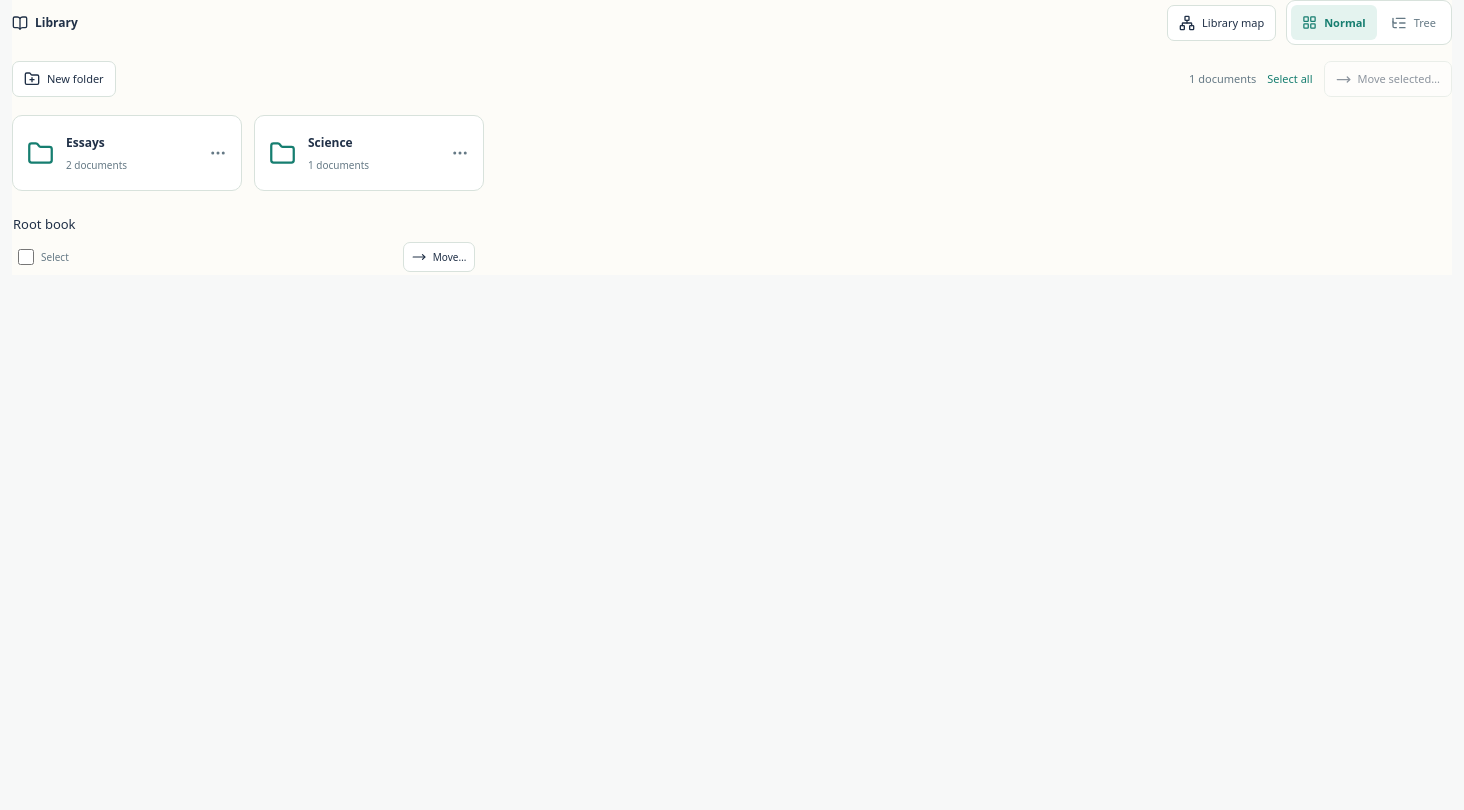
it: library folder navigation and views › selects only documents currently visible and expands before selecting deep documents
Click the button "Tree" at (1413, 22), box [1380,5,1447,40]
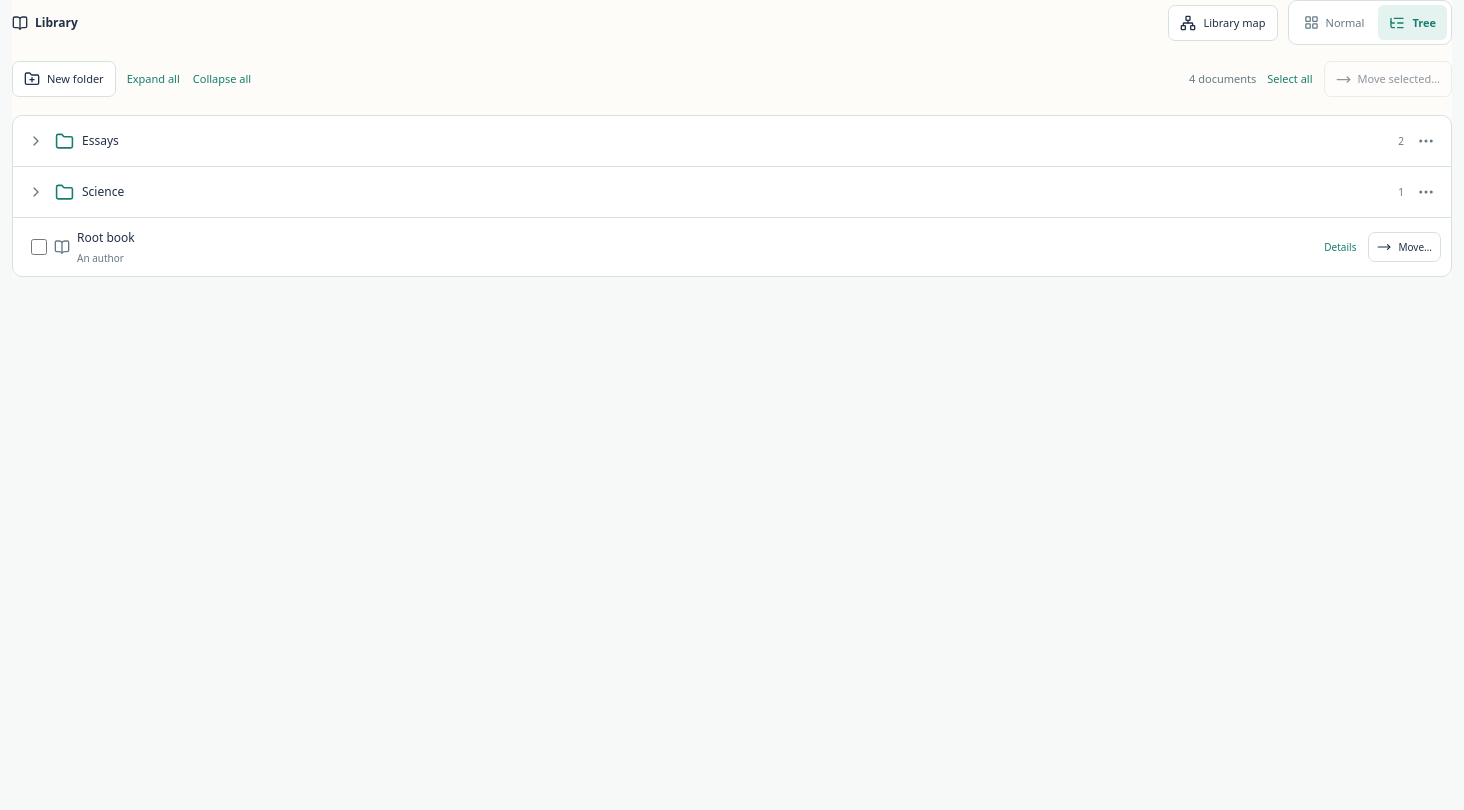
Click the button "Select all" at (1290, 79), box [1265,63,1315,95]
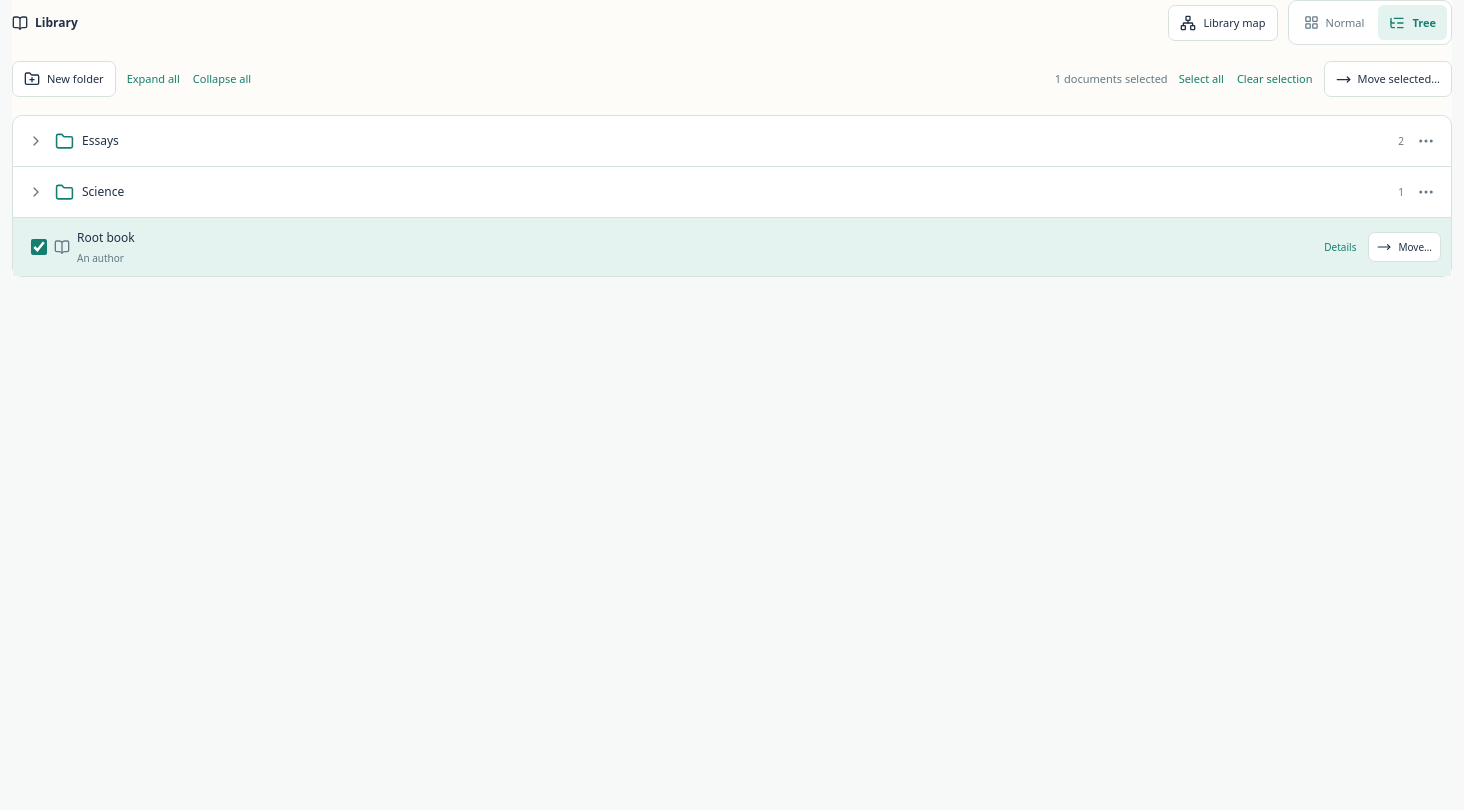
Expected: the text "1 documents selected" is shown, [1055,70,1168,88]
Click the button "Expand all" at (153, 79), box [125,63,182,95]
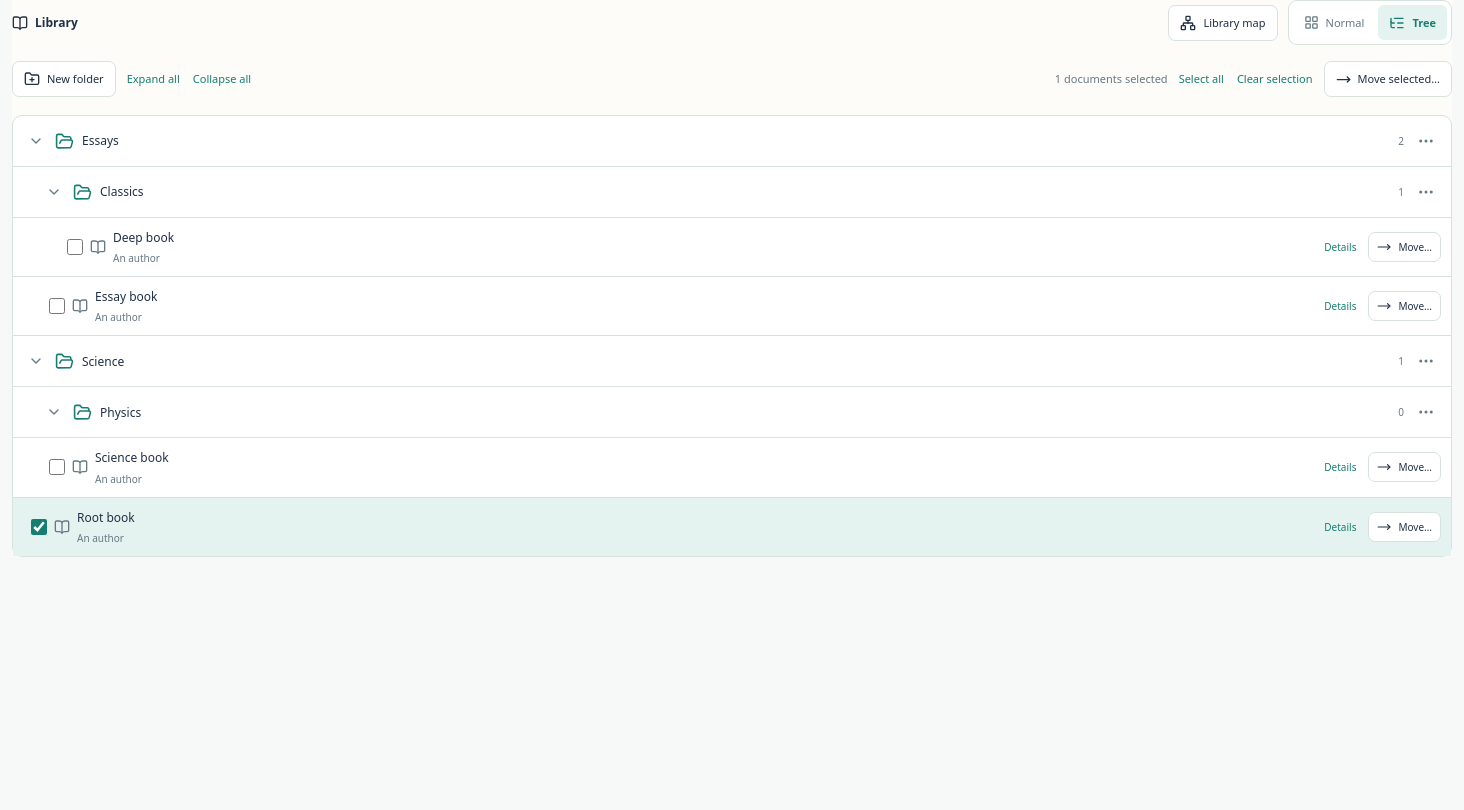
Click the button "Select all" at (1201, 79), box [1177,63,1226,95]
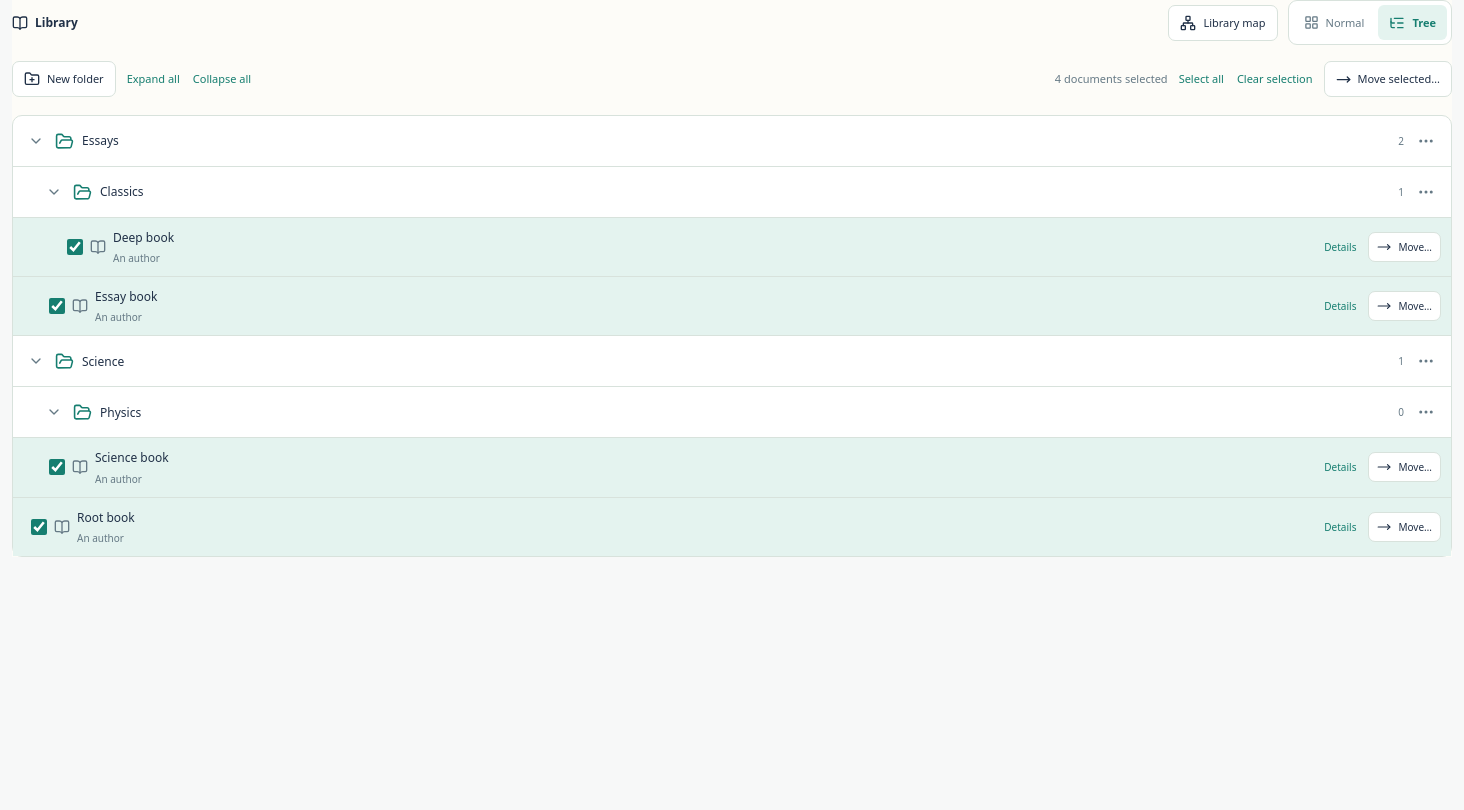
Expected: the text "4 documents selected" is shown, [1055,70,1168,88]
